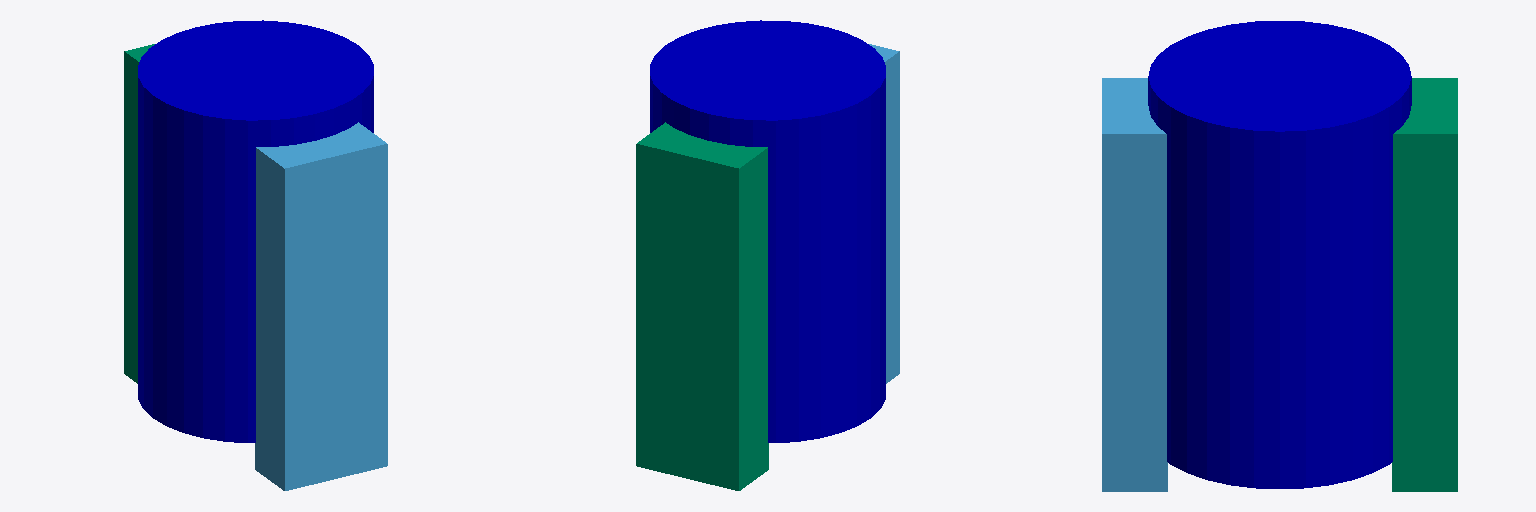
The robot description file, URDF, robot "materials":
<?xml version="1.0"?>
<robot name="materials">

    <material name="blue">
        <color rgba="0 0 0.8 1"/>
    </material>

    <material name="white">
        <color rgba="1 1 11"/>
    </material>

    <link name="base_link">
        <visual>
        <geometry>
            <cylinder length="0.6" radius="0.2"/>
        </geometry>
        <material name="blue"/>
        </visual>
    </link>

    <link name="right_leg">
        <visual>
        <geometry>
            <box size="0.6 0.1 0.2"/>
        </geometry>
        <origin rpy="0 1.57075 0" xyz="0 0 -0.3"/>
        <material name="white"/>
        </visual>
    </link>

    <joint name="base_to_right_leg" type="fixed">
        <parent link="base_link"/>
        <child link="right_leg"/>
        <origin xyz="0 -0.22 0.25"/>
    </joint>

    <link name="left_leg">
        <visual>
        <geometry>
            <box size="0.6 0.1 0.2"/>
        </geometry>
        <origin rpy="0 1.57075 0" xyz="0 0 -0.3"/>
        <material name="white"/>
        </visual>
    </link>

    <joint name="base_to_left_leg" type="fixed">
        <parent link="base_link"/>
        <child link="left_leg"/>
        <origin xyz="0 0.22 0.25"/>
    </joint>

</robot>

--- Render facts (derived) ---
3 views of the same robot in one strip: view 1: azimuth 30°, elevation 25°; view 2: azimuth 150°, elevation 25°; view 3: azimuth 270°, elevation 25° (orthographic).
Robot: materials — 3 links, 2 joints (2 fixed); root link base_link; default pose: every joint at zero.
Visible links, largest first — view 1: base_link, right_leg, left_leg; view 2: base_link, left_leg, right_leg; view 3: base_link, right_leg, left_leg.
Link boxes in pixels (x1,y1,x2,y2): base_link: (138,20,373,442); right_leg: (255,122,387,490); left_leg: (124,44,154,383); base_link: (650,20,885,442); left_leg: (636,122,768,490); right_leg: (869,44,899,383); base_link: (1148,21,1411,488); right_leg: (1102,78,1167,491); left_leg: (1392,78,1457,491).
Size in the robot's own frame: 0.4 by 0.54 by 0.65 metres.
Geometry: primitives only (box / cylinder / sphere), no mesh files.